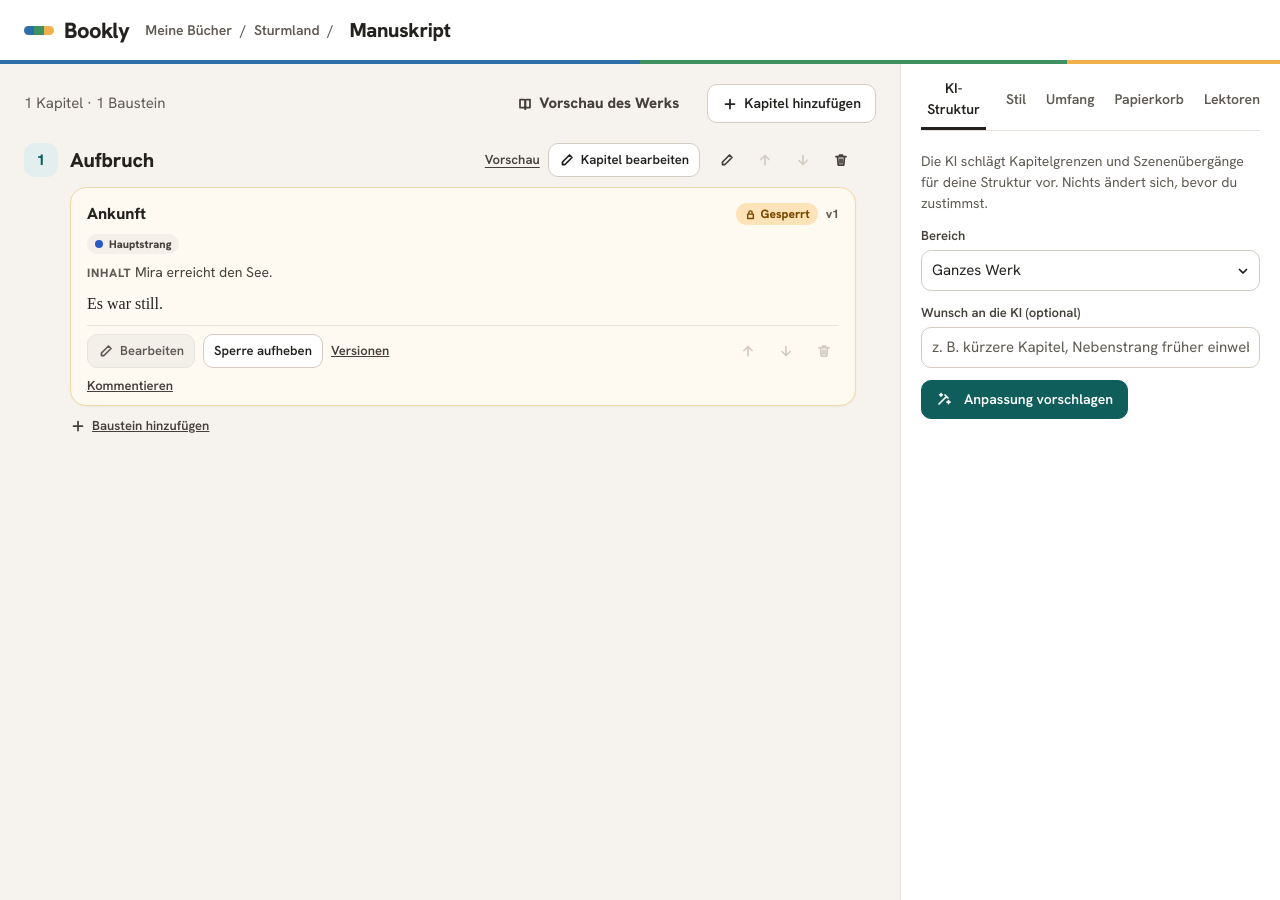
Scenario: ManuscriptPage › shows a foreign lock only as locked; the author can release it
Expected: the message reads "Gesperrt", [760,206,810,222]
Expected: the button "Bearbeiten" is disabled, [87,334,195,368]
Click the button "Sperre aufheben": click(263, 351) [203,334,323,368]
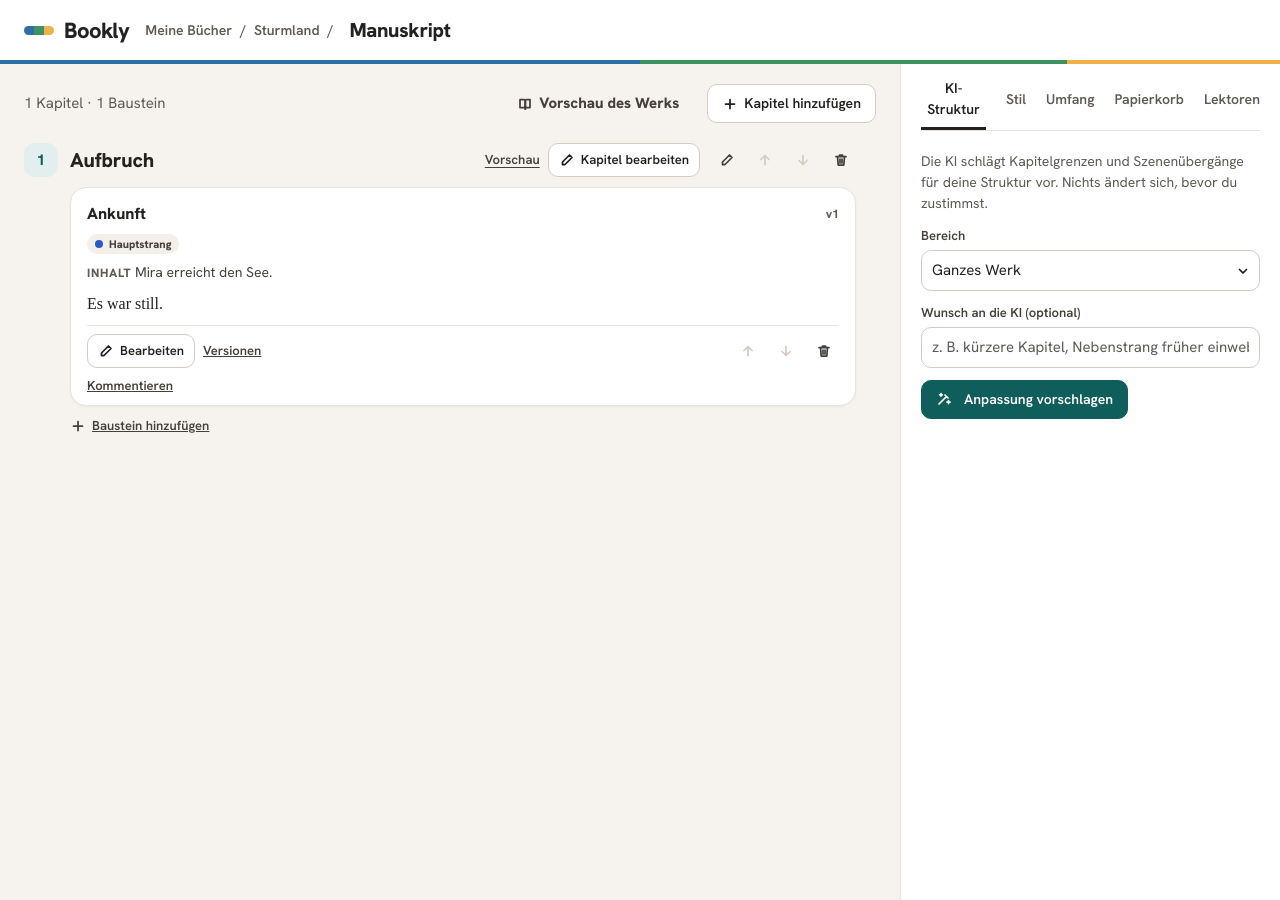
Expected: the button "Bearbeiten" is enabled, [87,334,195,368]
Expected: the message "Gesperrt" is gone
